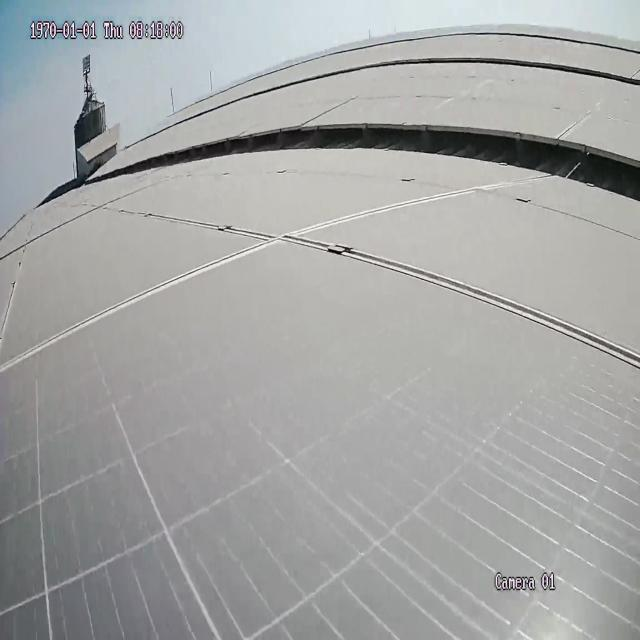interior panel: (3, 173, 634, 378), (127, 202, 265, 239)
outher panel: (134, 122, 636, 203)
